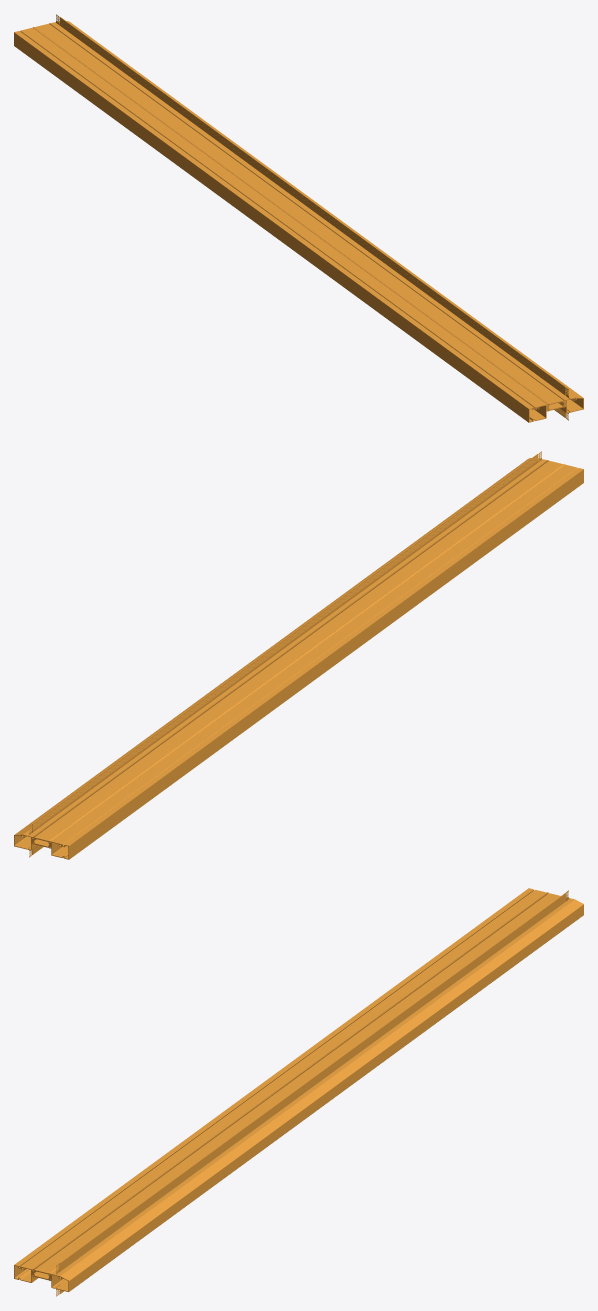
The model's file is right-p1-hlo-t04.glb.
3 renders of one model, top to bottom at view 1: azimuth 30°, elevation 25°; view 2: azimuth 150°, elevation 25°; view 3: azimuth 330°, elevation 25°, orthographic.
Parts seen in each view (by area): view 1: RIGHT P1_HLO T04; view 2: RIGHT P1_HLO T04; view 3: RIGHT P1_HLO T04.
Part boxes in pixels (box(x1,y1,x2,y2)): RIGHT P1_HLO T04: box(14, 14, 583, 422); RIGHT P1_HLO T04: box(14, 451, 583, 859); RIGHT P1_HLO T04: box(14, 888, 583, 1296).
Size of the model in its own units: 0.00418 by 0.00225 by 0.0676.
